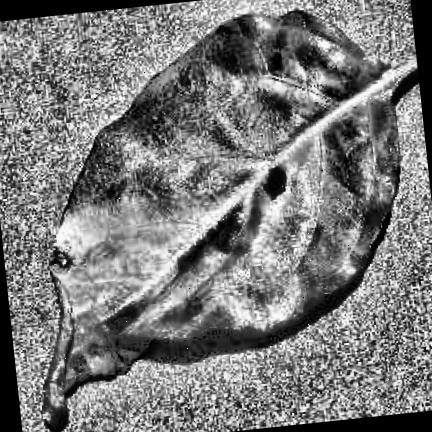leaf: (43, 13, 418, 432)
